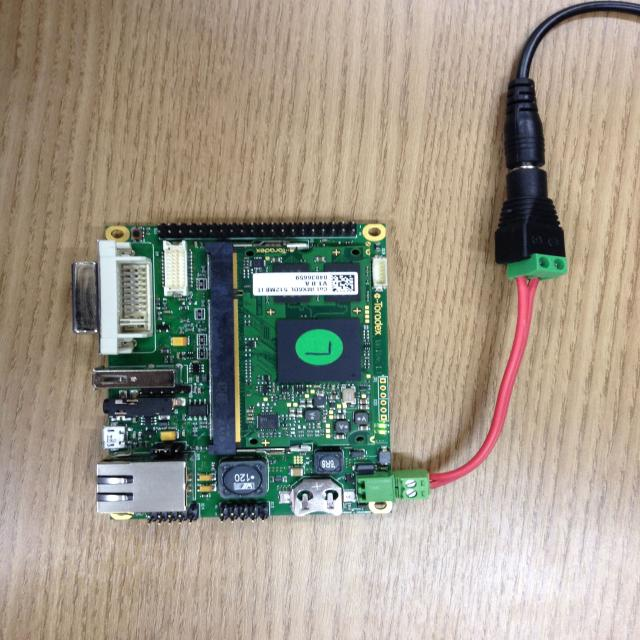som: (204, 245, 385, 450)
